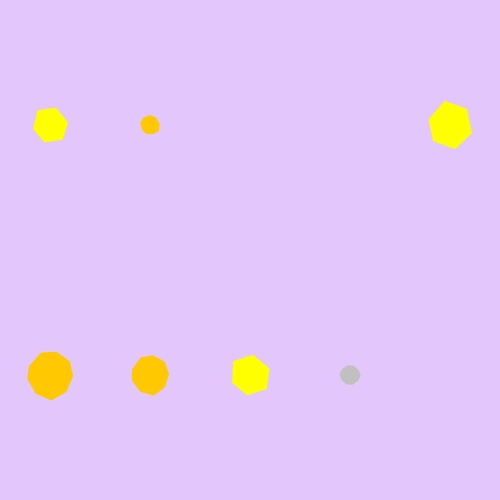decagon: (335, 361, 365, 389)
hexagon: (422, 102, 478, 149), (225, 354, 275, 396), (27, 106, 73, 145)
nonagon: (23, 349, 78, 402), (127, 353, 174, 398), (136, 111, 165, 139)
